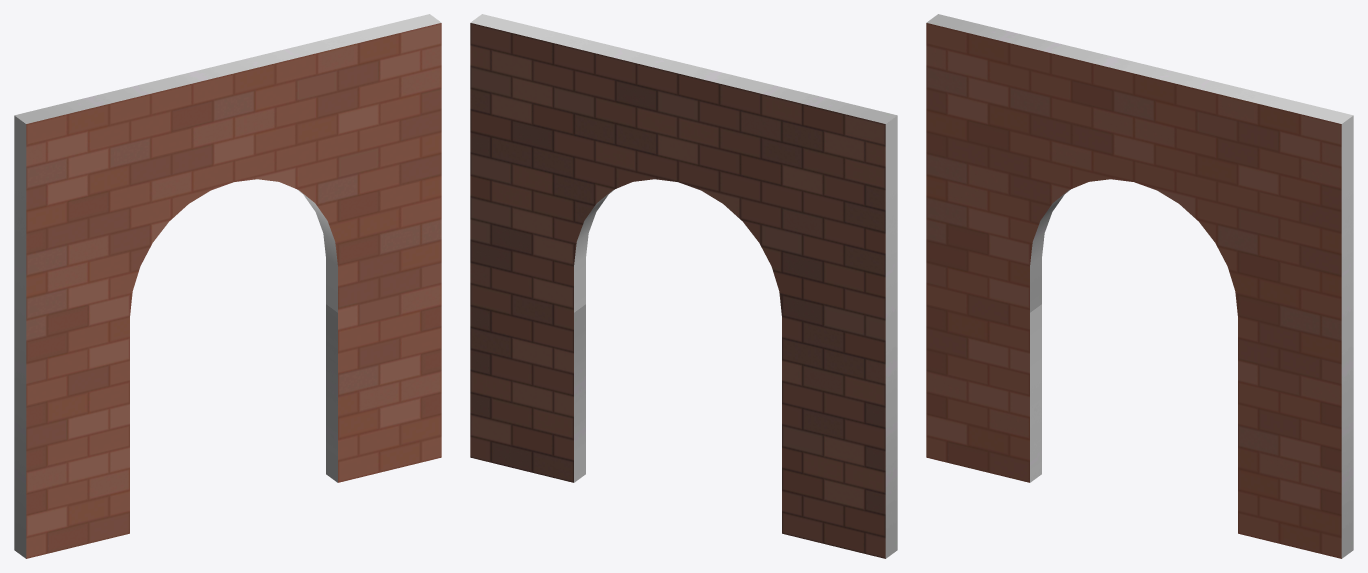
Rendered from Wall_06.glb.
The picture shows the model from 3 angles, left to right: view 1: azimuth 30°, elevation 25°; view 2: azimuth 150°, elevation 25°; view 3: azimuth 330°, elevation 25°; orthographic projection.
Parts seen in each view (by area): view 1: Wall_06; view 2: Wall_06; view 3: Wall_06.
Boxes of the visible parts, left/top/right/bottom form: Wall_06: left=14, top=14, right=441, bottom=558; Wall_06: left=470, top=14, right=897, bottom=558; Wall_06: left=926, top=14, right=1353, bottom=558.
Bounding box in the file's own units: 4 × 4 × 0.2.
3 materials, 3 textured.
